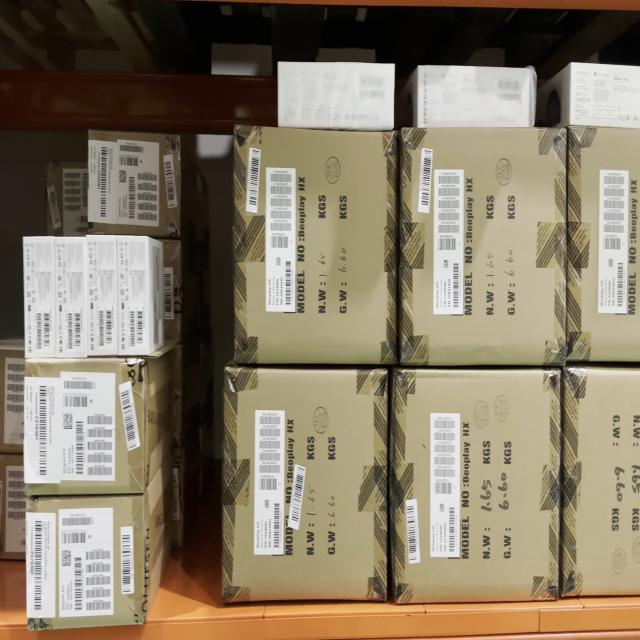box: (394, 371, 560, 603), (400, 130, 562, 364), (225, 371, 387, 604), (236, 131, 397, 359), (27, 362, 144, 494), (29, 499, 143, 623), (90, 136, 180, 234), (279, 63, 395, 124), (420, 68, 530, 125), (24, 238, 55, 357), (56, 238, 86, 357), (119, 237, 147, 356), (88, 238, 116, 356)
